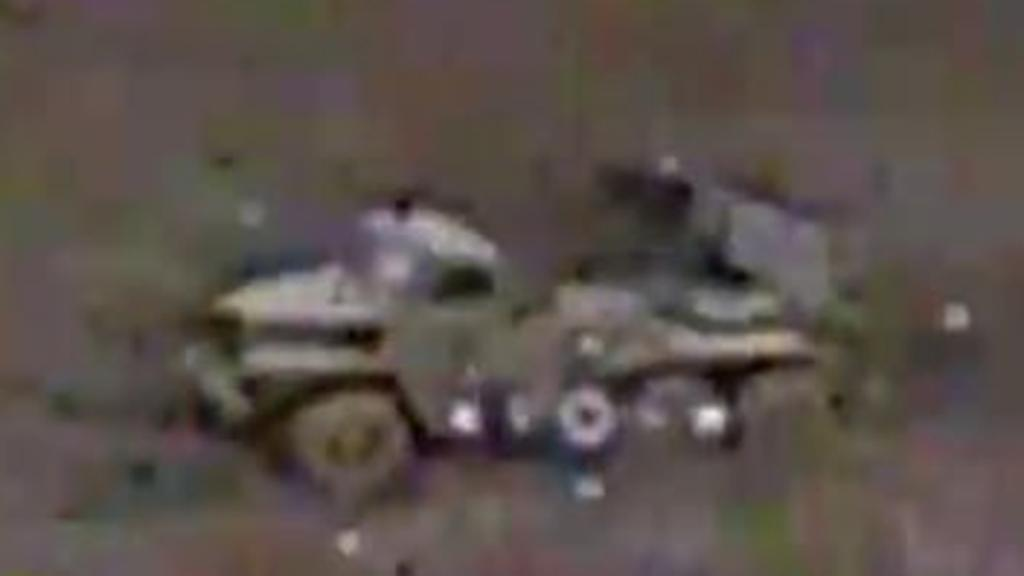MLRS: (184, 149, 834, 500)
